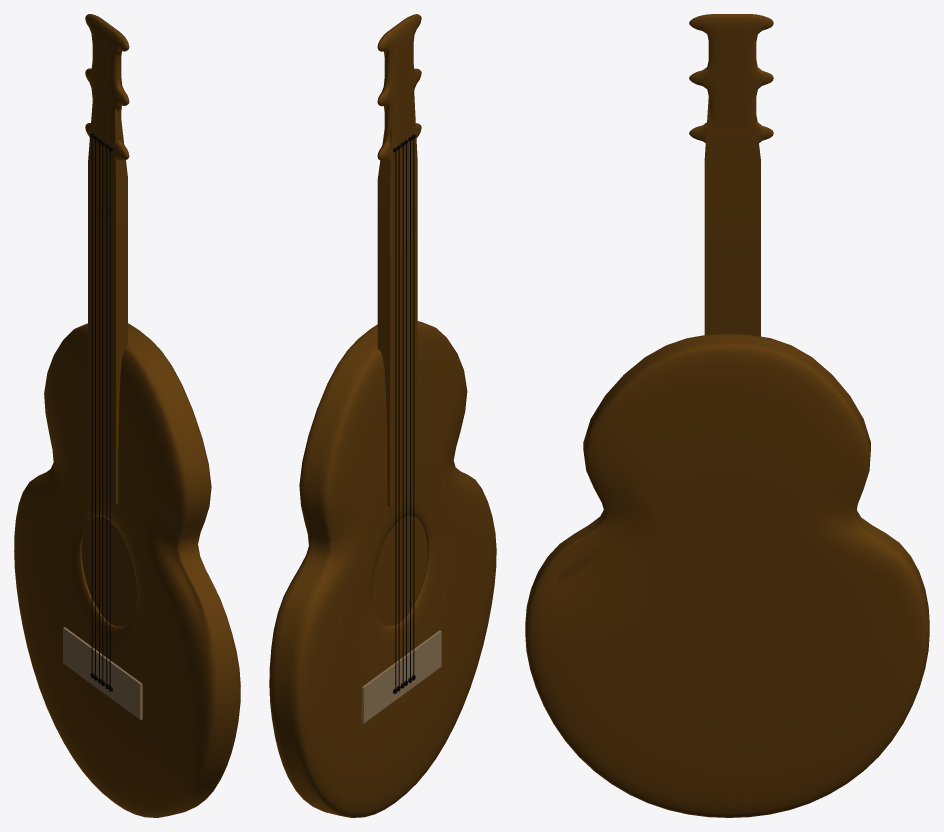
Rendered from Guitar.FBX.
The picture shows the model from 3 angles, left to right: view 1: azimuth 30°, elevation 25°; view 2: azimuth 150°, elevation 25°; view 3: azimuth 270°, elevation 25°; orthographic projection.
Parts seen in each view (by area): view 1: Cylinder001, Box002, Box011, Box003, Box008, Box009, Box010, Box005, Box006, Box007; view 2: Cylinder001, Box002, Box011, Box003, Box005, Box006, Box007, Box009, Box008, Box010; view 3: Cylinder001, Box002, Box011.
Part boxes in pixels (x1,y1,x2,y2): Cylinder001: (14,323,240,817); Box002: (88,100,127,504); Box011: (85,14,129,160); Box003: (63,627,142,719); Box008: (102,146,103,681); Box009: (109,151,110,686); Box010: (106,149,107,684); Box005: (91,138,92,673); Box006: (95,140,95,675); Box007: (99,143,99,678); Cylinder001: (269,321,496,817); Box002: (377,93,417,506); Box011: (377,14,421,161); Box003: (361,630,441,723); Box005: (395,152,396,688); Box006: (398,150,399,686); Box007: (402,147,403,683); Box009: (413,139,414,675); Box008: (406,144,406,681); Box010: (410,141,410,678); Cylinder001: (525,334,929,817); Box002: (704,95,760,336); Box011: (689,14,773,143).
Bounding box in the file's own units: 2.77 × 45.92 × 21.32.
